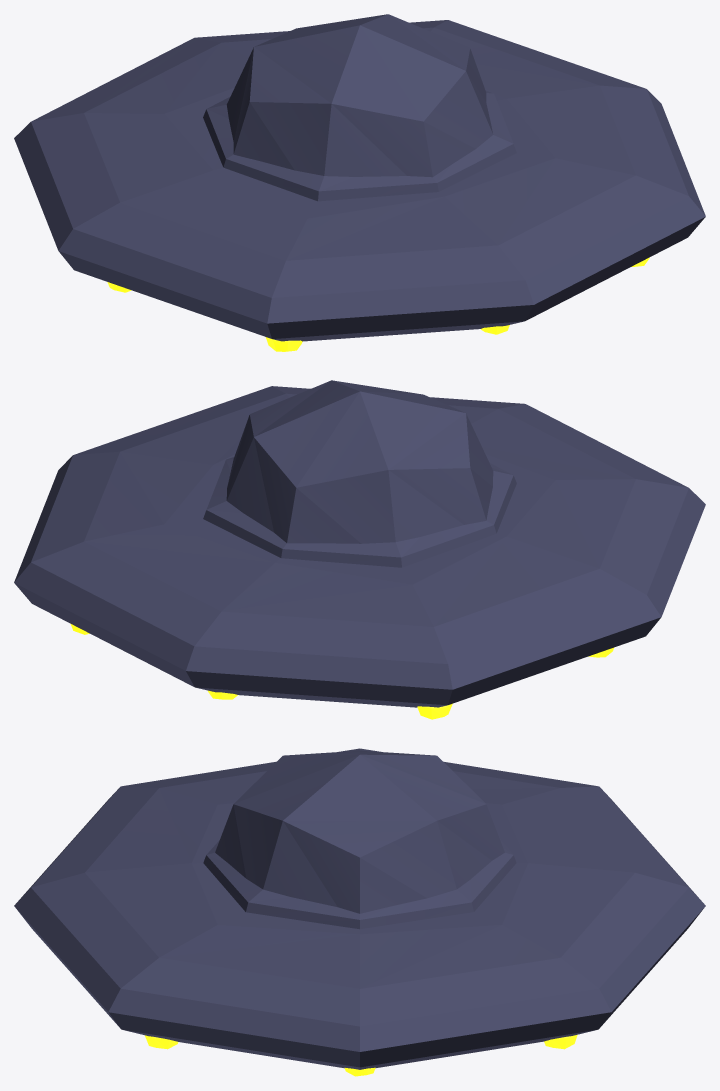
File: ufo.gltf
3 views of the same model, one above another, from view 1: azimuth 30°, elevation 25°; view 2: azimuth 150°, elevation 25°; view 3: azimuth 270°, elevation 25° (orthographic).
Visible parts, largest first — view 1: Cube.052; view 2: Cube.052; view 3: Cube.052.
Boxes of the visible parts, box(x1,y1,x2,y2) form: Cube.052: box(14, 14, 705, 351); Cube.052: box(14, 380, 705, 719); Cube.052: box(14, 748, 705, 1076).
Size of the model in its own units: 46.25 by 18.02 by 46.25.
